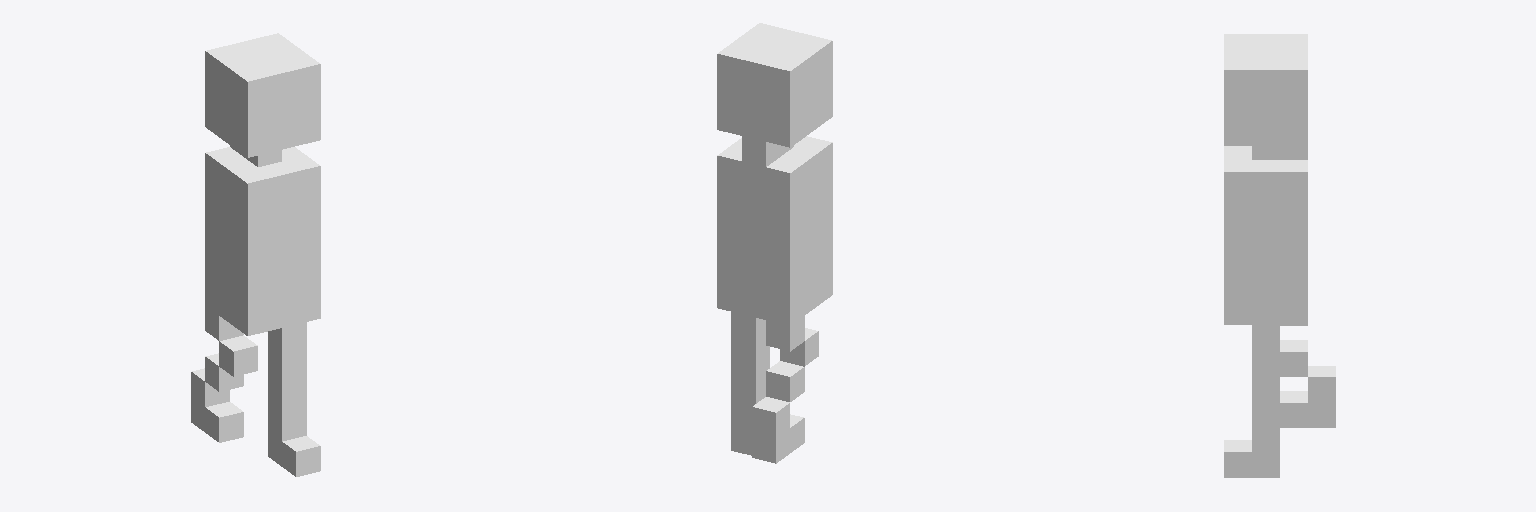
Rendered from torso_walk-7-torso.obj.
3 views of the same model, side by side, from view 1: azimuth 30°, elevation 25°; view 2: azimuth 150°, elevation 25°; view 3: azimuth 270°, elevation 25° (orthographic).
Parts seen in each view (by area): view 1: torso; view 2: torso; view 3: torso.
Part boxes in pixels (x1,y1,x2,y2): torso: (191, 33, 320, 476); torso: (717, 23, 832, 463); torso: (1224, 34, 1335, 477).
Bounding box in the file's own units: 0.3 × 1.6 × 0.4.